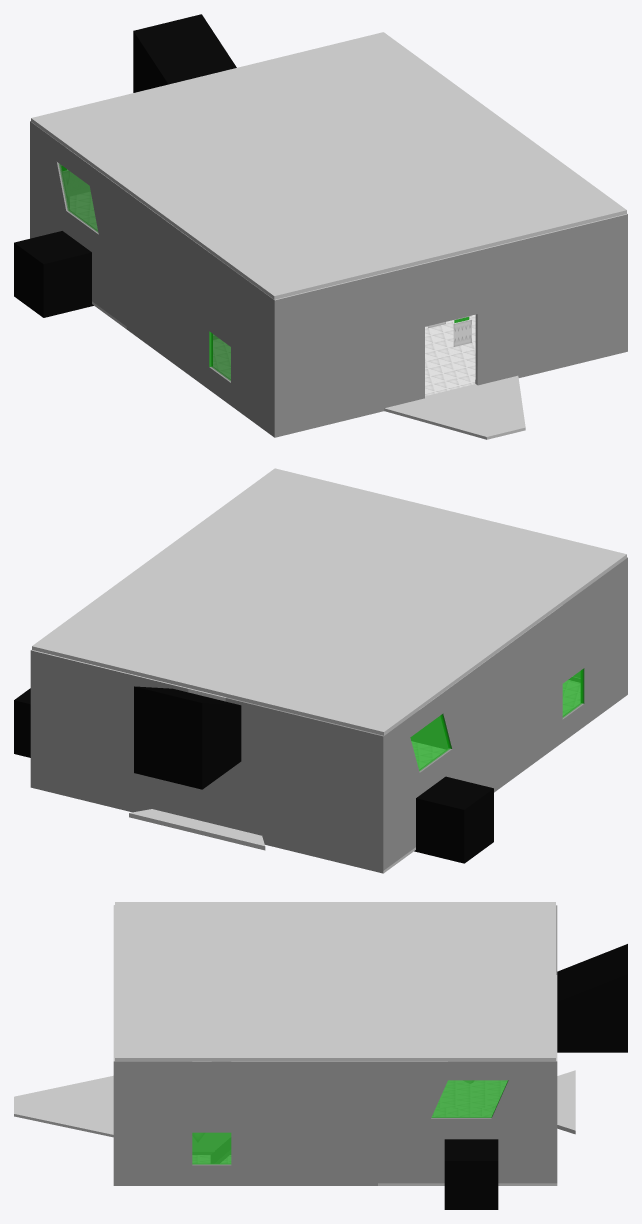
File: SM_Level_1_V1.0.fbx
3 views of the same model, one above another, from view 1: azimuth 30°, elevation 25°; view 2: azimuth 150°, elevation 25°; view 3: azimuth 270°, elevation 25° (orthographic). The views are drawn at different scales.
Parts seen in each view (by area): view 1: pasted__pasted__pCube40, pasted__pasted__polySurface34, pasted__pasted__pCube30, pasted__pasted__pCube32, pasted__pasted__polySurface12; view 2: pasted__pasted__pCube40, pasted__pasted__polySurface34, pasted__pasted__pCube32, pasted__pasted__pCube30, pasted__pasted__polySurface8, pasted__pasted__polySurface12, pasted__pasted__pCube31; view 3: pasted__pasted__pCube40, pasted__pasted__polySurface34, pasted__pasted__pCube32, pasted__pasted__pCube31, pasted__pasted__polySurface8, pasted__pasted__polySurface64, pasted__pasted__polySurface12.
Part boxes in pixels (<box>): pasted__pasted__pCube40: <box>31,32,626,299</box>; pasted__pasted__polySurface34: <box>30,121,627,439</box>; pasted__pasted__pCube30: <box>14,231,93,317</box>; pasted__pasted__pCube32: <box>133,14,236,92</box>; pasted__pasted__polySurface12: <box>70,192,97,229</box>; pasted__pasted__pCube40: <box>32,468,626,735</box>; pasted__pasted__polySurface34: <box>30,557,627,873</box>; pasted__pasted__pCube32: <box>134,686,241,789</box>; pasted__pasted__pCube30: <box>414,776,493,863</box>; pasted__pasted__polySurface8: <box>129,809,265,850</box>; pasted__pasted__polySurface12: <box>410,716,447,769</box>; pasted__pasted__pCube31: <box>14,688,30,757</box>; pasted__pasted__pCube40: <box>115,902,555,1163</box>; pasted__pasted__polySurface34: <box>14,905,557,1185</box>; pasted__pasted__pCube32: <box>557,944,627,1052</box>; pasted__pasted__pCube31: <box>444,1139,498,1209</box>; pasted__pasted__polySurface8: <box>557,1070,575,1134</box>; pasted__pasted__polySurface64: <box>192,1133,230,1154</box>; pasted__pasted__polySurface12: <box>432,1108,494,1116</box>.
Size of the model in its own units: 125 by 44.96 by 163.
24 materials, 7 textured.
